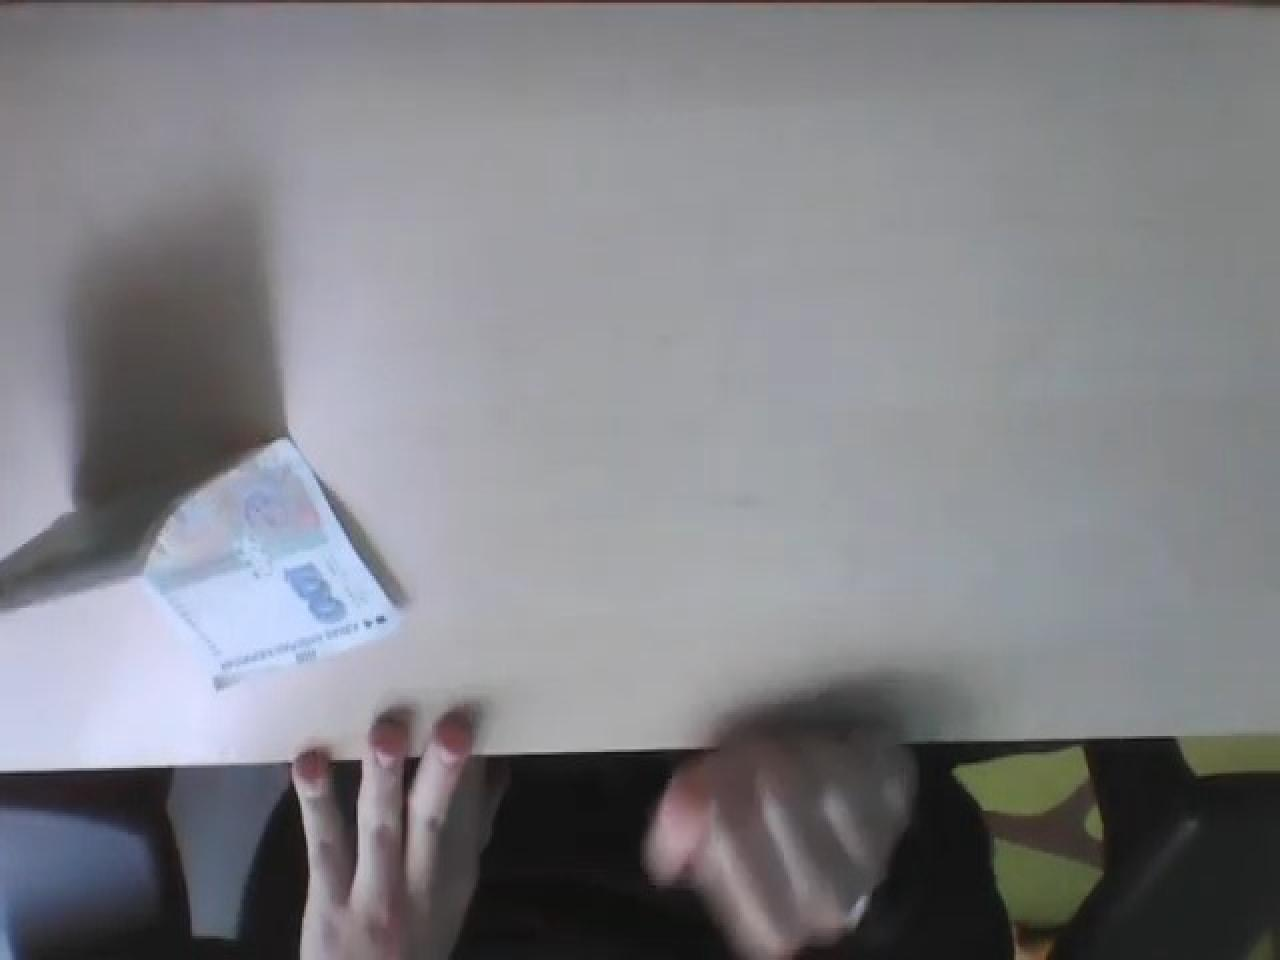100leva: (138, 435, 402, 696), (282, 560, 346, 629)
